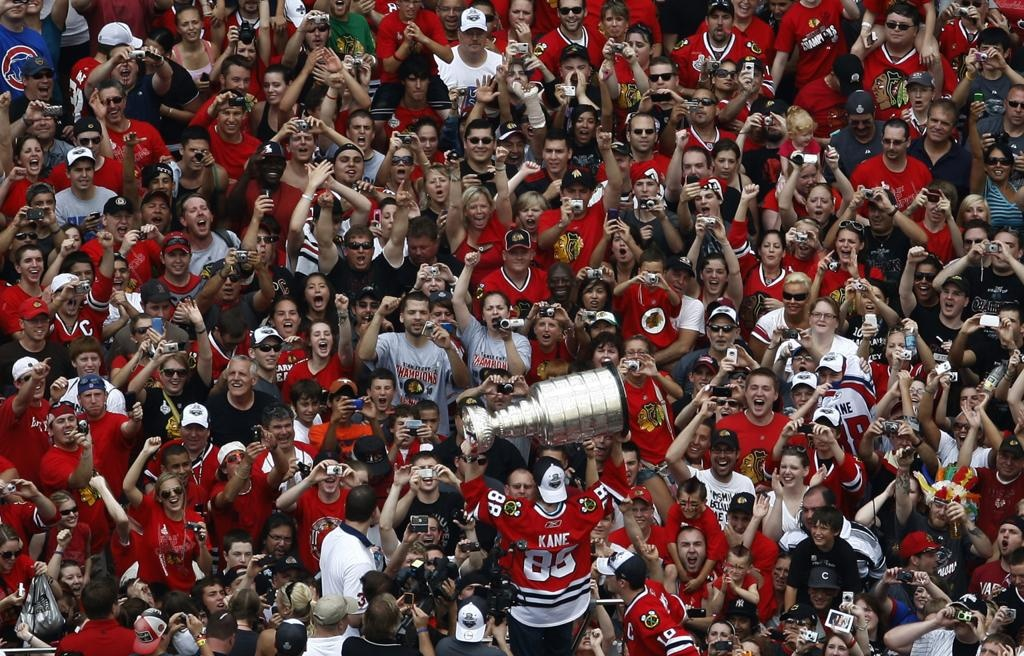human_face: (745, 375, 773, 415), (678, 532, 704, 570), (110, 47, 136, 85), (926, 107, 954, 141), (940, 281, 966, 317), (404, 298, 430, 334), (184, 198, 210, 234), (412, 457, 440, 489), (335, 150, 363, 182), (142, 198, 170, 230), (99, 86, 125, 120), (12, 224, 38, 258), (914, 262, 938, 298), (710, 314, 734, 350), (702, 258, 726, 294), (274, 300, 298, 336), (124, 579, 154, 607), (802, 494, 828, 526), (782, 282, 808, 314), (649, 64, 675, 96), (710, 444, 736, 476), (183, 139, 209, 171), (27, 67, 53, 99), (992, 232, 1016, 266), (808, 186, 832, 220), (690, 90, 714, 124), (684, 423, 708, 457), (483, 293, 507, 327), (304, 276, 328, 310), (318, 459, 342, 493), (884, 15, 914, 42), (561, 55, 587, 86), (224, 446, 250, 477), (20, 138, 42, 174), (406, 233, 434, 261), (728, 507, 754, 537), (622, 338, 648, 368), (268, 418, 294, 448), (214, 270, 240, 300), (28, 107, 54, 137), (964, 228, 988, 260), (794, 224, 818, 256), (810, 301, 834, 333), (987, 147, 1011, 179), (883, 127, 907, 159), (630, 118, 654, 150), (544, 140, 568, 172), (487, 378, 511, 410), (466, 193, 490, 225), (389, 148, 413, 180), (414, 124, 438, 156), (348, 117, 372, 149), (290, 128, 314, 160), (256, 336, 280, 368), (520, 106, 544, 138), (502, 62, 528, 91), (954, 602, 976, 636), (884, 333, 906, 367), (836, 229, 858, 263), (614, 451, 636, 485), (549, 266, 571, 300), (310, 322, 332, 356), (228, 360, 250, 394), (20, 366, 44, 397), (592, 342, 618, 370), (590, 318, 616, 346), (508, 476, 534, 504), (466, 131, 492, 159), (180, 421, 206, 449), (76, 129, 102, 157), (708, 7, 730, 40), (854, 598, 878, 628), (792, 348, 816, 378), (682, 152, 706, 182), (694, 187, 718, 217), (590, 428, 614, 458), (714, 393, 738, 423), (506, 240, 530, 270), (226, 67, 250, 97), (228, 540, 252, 570), (108, 211, 132, 241), (1, 464, 21, 500), (771, 557, 793, 589), (780, 454, 802, 486), (954, 414, 976, 446), (761, 232, 783, 264), (628, 496, 650, 528), (422, 266, 444, 298), (536, 313, 558, 345), (348, 234, 370, 266), (426, 169, 448, 201), (998, 310, 1020, 342), (218, 101, 240, 133), (234, 34, 256, 66), (268, 525, 290, 557), (160, 478, 182, 510), (168, 453, 190, 485), (162, 359, 184, 391), (21, 250, 43, 282), (958, 0, 984, 27), (560, 1, 584, 30), (304, 19, 328, 48), (588, 505, 610, 536), (264, 73, 286, 104), (460, 451, 486, 477), (455, 411, 481, 437), (78, 388, 104, 414), (930, 496, 954, 524), (792, 383, 816, 411), (860, 286, 884, 314), (518, 199, 542, 227), (582, 282, 606, 310), (392, 416, 416, 444), (564, 182, 588, 210), (462, 23, 486, 51), (53, 413, 77, 441), (24, 310, 48, 338), (164, 245, 188, 273), (400, 553, 424, 581), (912, 579, 934, 609), (626, 32, 648, 62), (666, 264, 688, 294), (613, 230, 635, 260), (379, 205, 401, 235), (260, 153, 282, 183), (356, 294, 378, 324), (71, 158, 93, 188), (996, 448, 1020, 475), (508, 1, 532, 28), (909, 80, 931, 109), (634, 174, 656, 203), (471, 5, 493, 34), (405, 71, 427, 100), (868, 202, 892, 228), (980, 43, 1004, 69), (460, 582, 484, 608), (430, 306, 454, 332), (784, 614, 810, 638), (144, 298, 170, 322), (714, 150, 736, 178), (606, 151, 628, 179), (640, 261, 662, 289), (370, 380, 392, 408), (203, 584, 225, 612), (61, 566, 83, 594), (107, 260, 129, 288), (250, 232, 272, 260), (334, 67, 356, 95), (1006, 88, 1024, 122), (832, 70, 858, 93), (895, 478, 917, 505), (332, 388, 354, 415), (149, 171, 171, 198), (604, 7, 624, 36), (997, 523, 1015, 555), (818, 364, 842, 388), (848, 112, 872, 136), (708, 622, 732, 646), (810, 582, 832, 608), (811, 519, 833, 545), (812, 424, 834, 450), (926, 194, 948, 220), (795, 165, 817, 191), (679, 493, 701, 519), (542, 450, 564, 476), (502, 136, 524, 162), (218, 329, 244, 351), (71, 262, 93, 288), (920, 544, 940, 572), (960, 386, 980, 414), (716, 62, 736, 90), (574, 112, 594, 140), (58, 285, 78, 313), (738, 66, 760, 91), (906, 380, 926, 407), (1, 540, 19, 570), (964, 200, 986, 224), (824, 634, 848, 656), (297, 393, 319, 417), (76, 351, 98, 375), (32, 193, 54, 217), (134, 319, 156, 343), (726, 555, 746, 581), (441, 3, 461, 29), (318, 213, 340, 236), (180, 15, 200, 40), (416, 411, 438, 433), (416, 522, 436, 546), (730, 613, 750, 637), (278, 567, 302, 587), (314, 97, 334, 121), (606, 566, 624, 592), (578, 624, 596, 650), (58, 499, 76, 525), (424, 556, 444, 579), (276, 590, 292, 618), (1008, 564, 1024, 592), (142, 38, 162, 60), (364, 462, 384, 484), (730, 371, 748, 395), (63, 228, 81, 252), (892, 430, 912, 450), (794, 125, 812, 147), (767, 113, 785, 135), (350, 471, 368, 493), (732, 0, 756, 16), (334, 609, 350, 633), (770, 0, 790, 19), (694, 369, 712, 389), (979, 642, 1003, 656), (400, 0, 418, 17), (7, 0, 25, 15), (193, 608, 207, 626), (330, 0, 346, 14), (26, 0, 42, 10)
